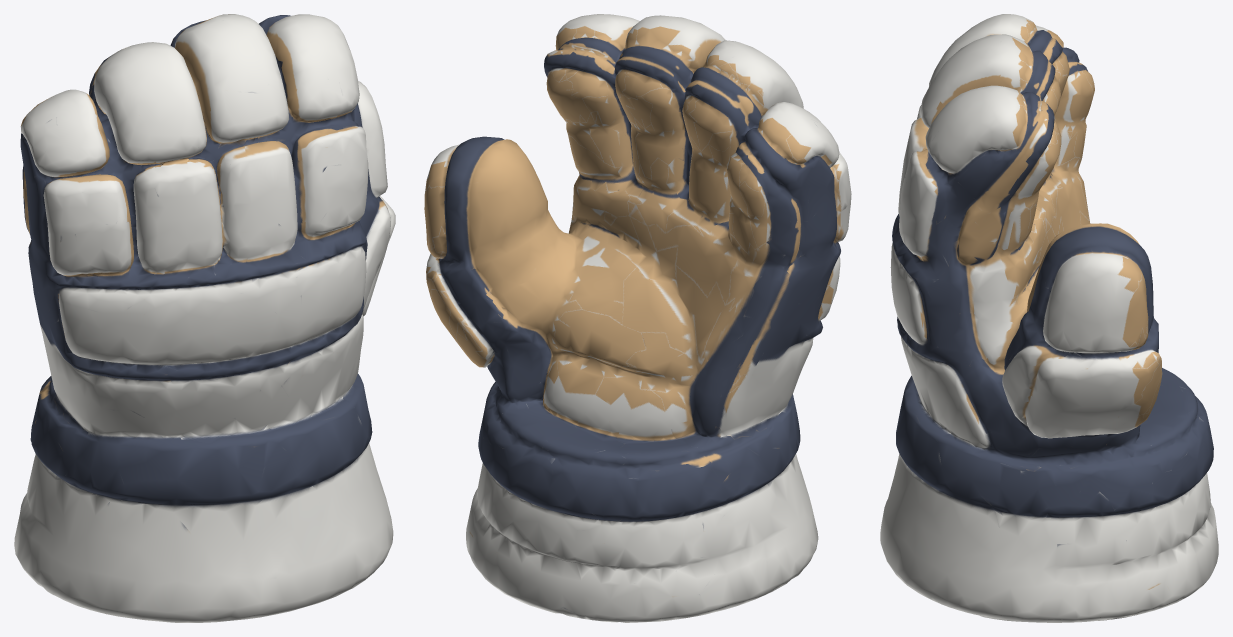
The model's file is glove.obj.
3 views of the same model, side by side, from view 1: azimuth 30°, elevation 25°; view 2: azimuth 150°, elevation 25°; view 3: azimuth 270°, elevation 25° (orthographic). The views are drawn at different scales.
Size of the model in its own units: 1.39 by 1.9 by 1.13.
Materials: 1 (1 with a texture image).
